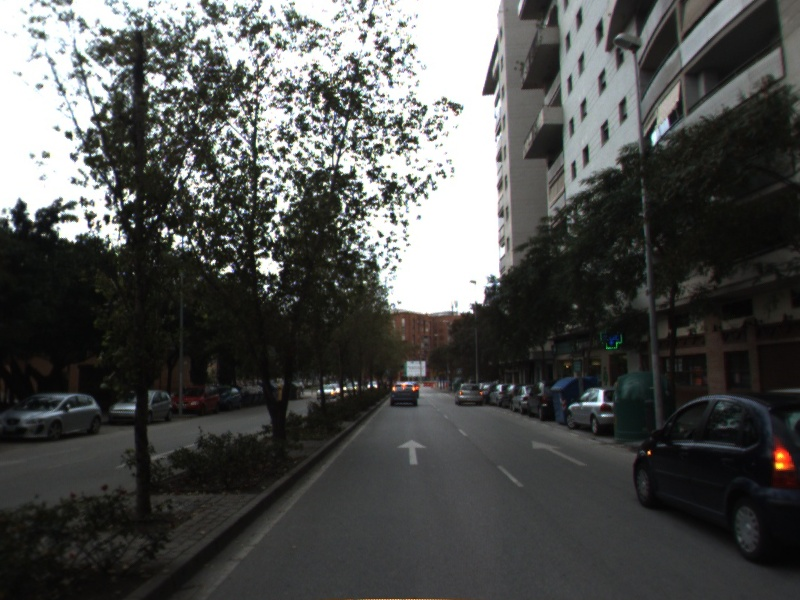STRAIGHT: (531, 439, 588, 467), (395, 438, 430, 466)
